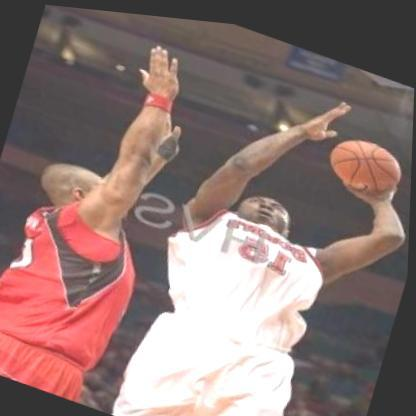basketball: (323, 122, 409, 194)
